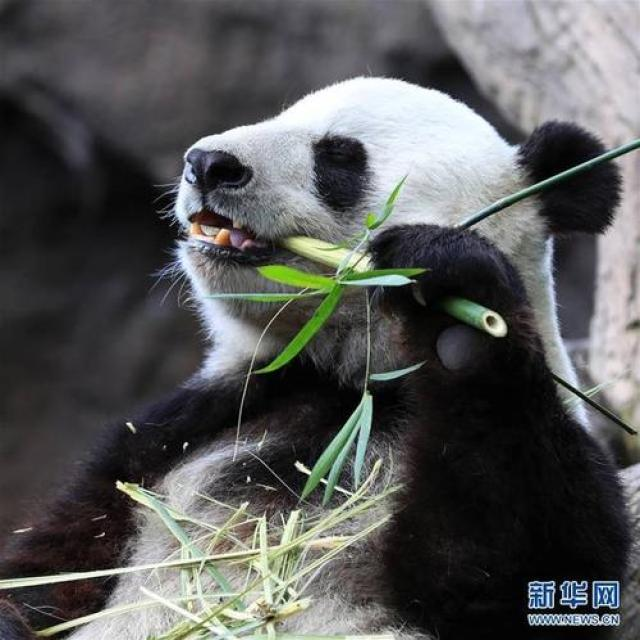panda: (1, 34, 637, 640)
